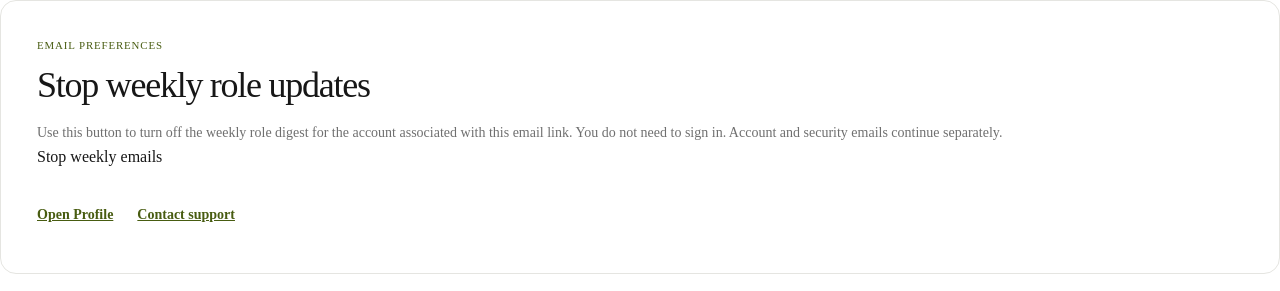
Test: login-free one-shot unsubscribe confirmation › does not replay unknown outcomes on repeat click, rerender or remount
Later steps or results of the test are not shown.
Click the button "Stop weekly emails" at (100, 157), box 37,145 -> 162,169
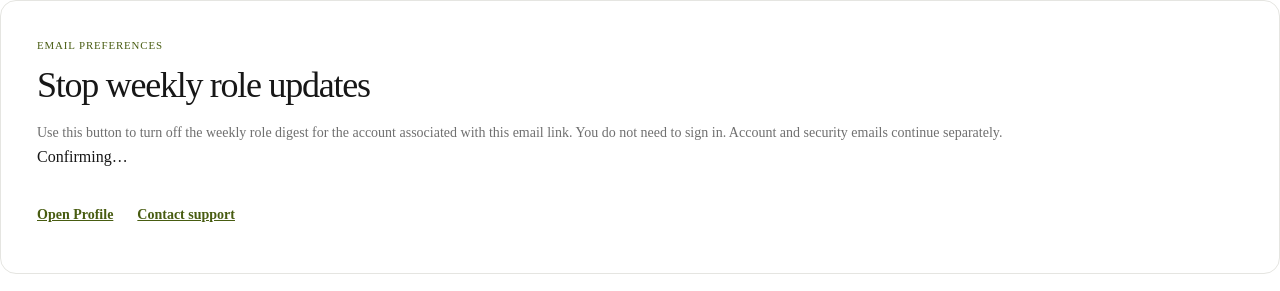
Click the button named "Stop weekly emails" at (82, 157), box 37,145 -> 128,169
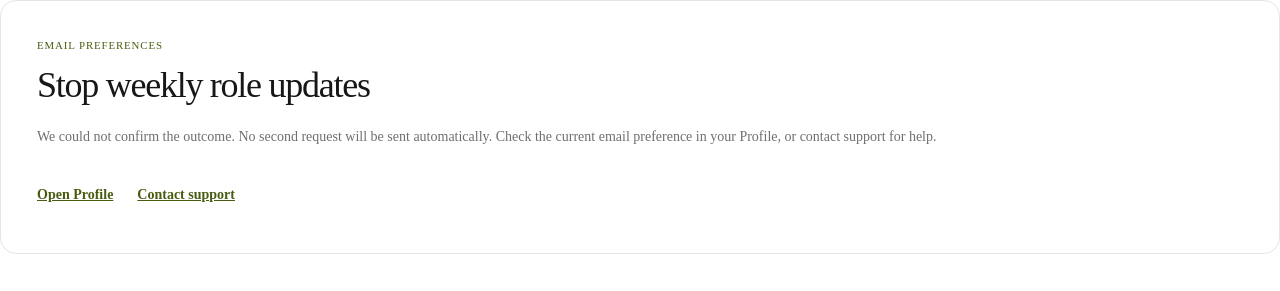
Check: the message shows "No second request", box 37,129 -> 936,144
Check: the button "Confirming…" is gone
